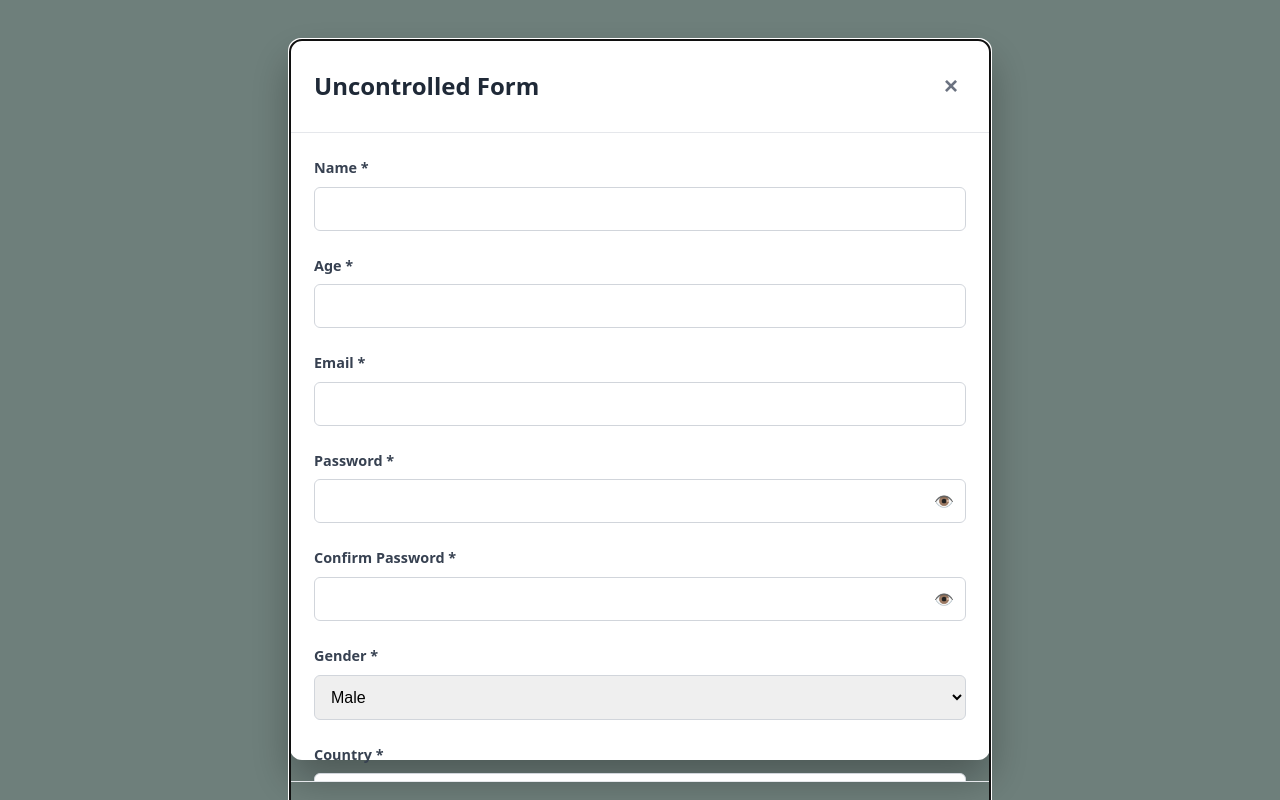
Test: UncontrolledForm Component › Field Validation › should validate password confirmation matching
The image size is (1280, 800).
Type "StrongP@ss123" into the password field labelled "Password *". click: (640, 501)
box: [314,479,966,523]
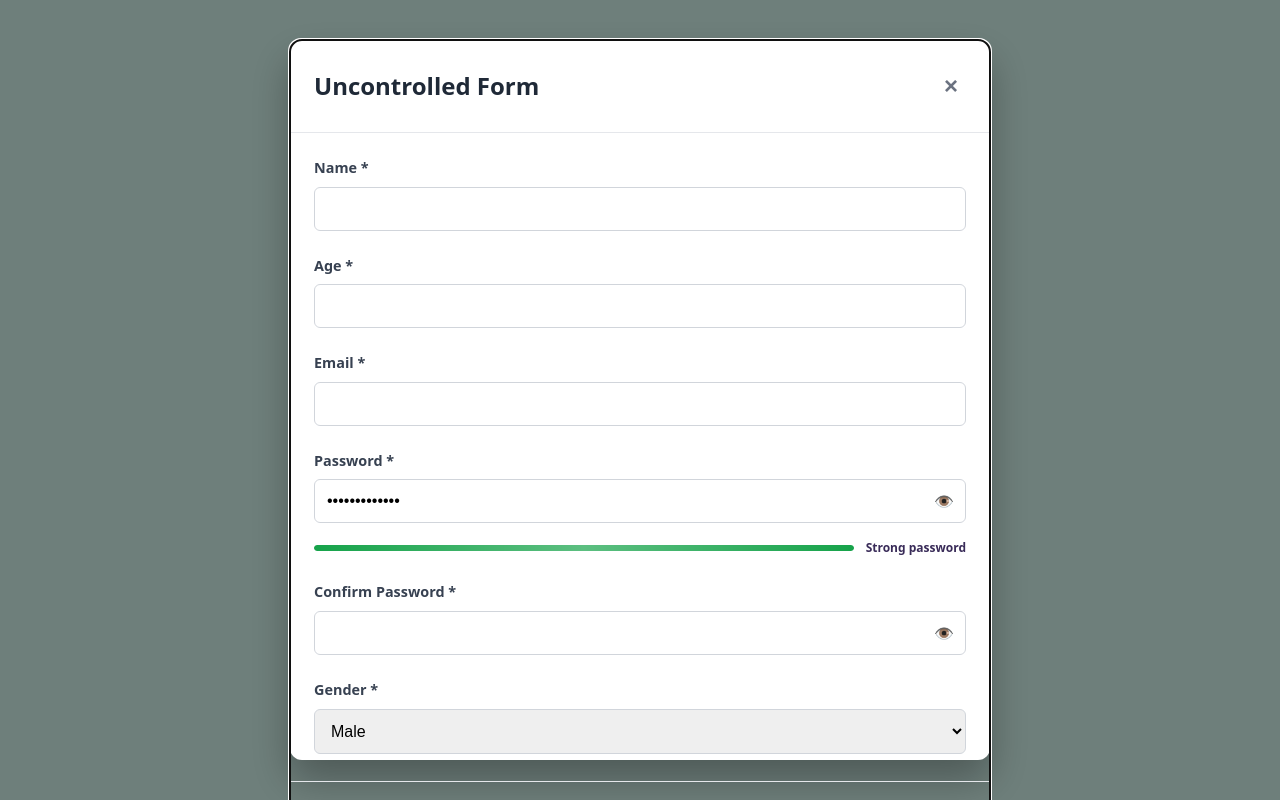
Type "DifferentP@ss123" into the password field labelled "Confirm Password *". click: (640, 633)
box: [314,611,966,655]
(page scrolled)
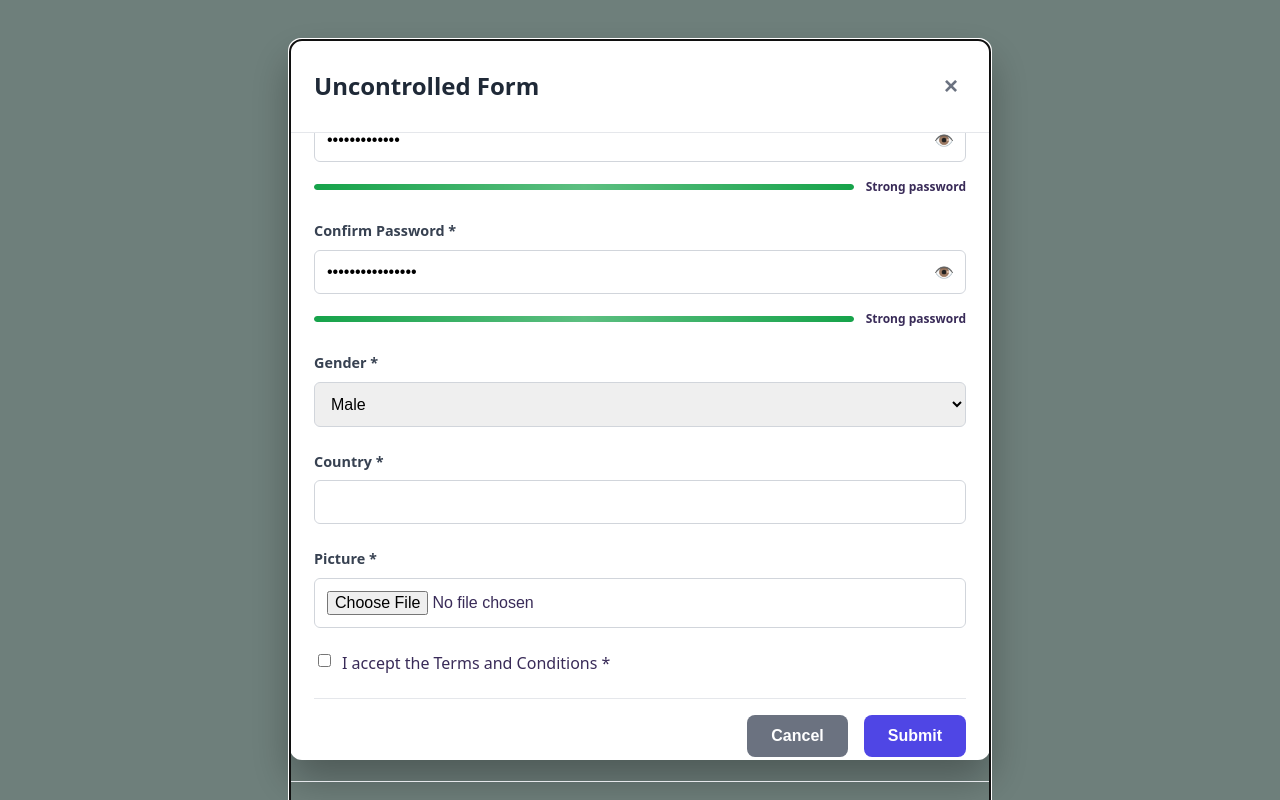
Click the button "Submit". click: (915, 736)
box: [864,715,966,757]
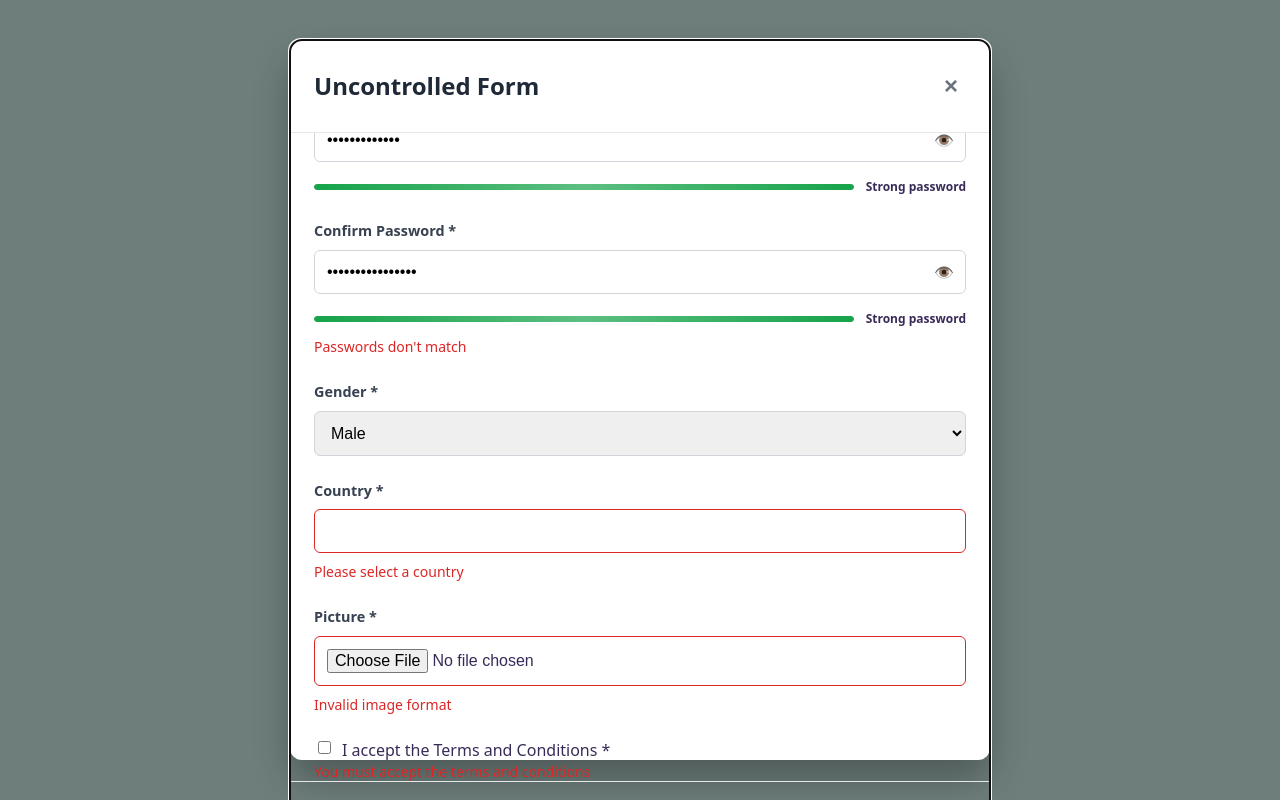
Expected: the text "Passwords don't match" is shown, [314,337,466,356]
Type "StrongP@ss123" into the password field labelled "Confirm Password *". click: (640, 272)
box: [314,250,966,294]
(page scrolled)
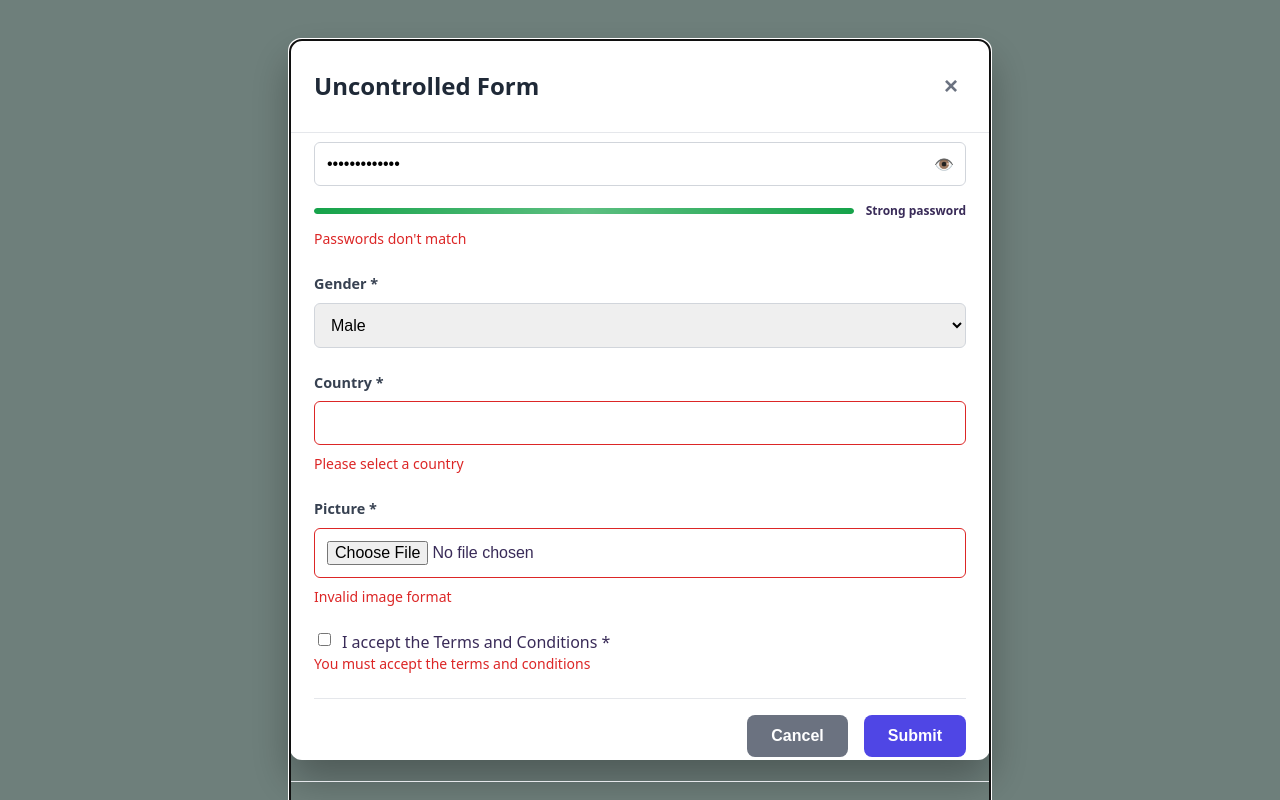
Click the button "Submit". click: (915, 736)
box: [864,715,966,757]
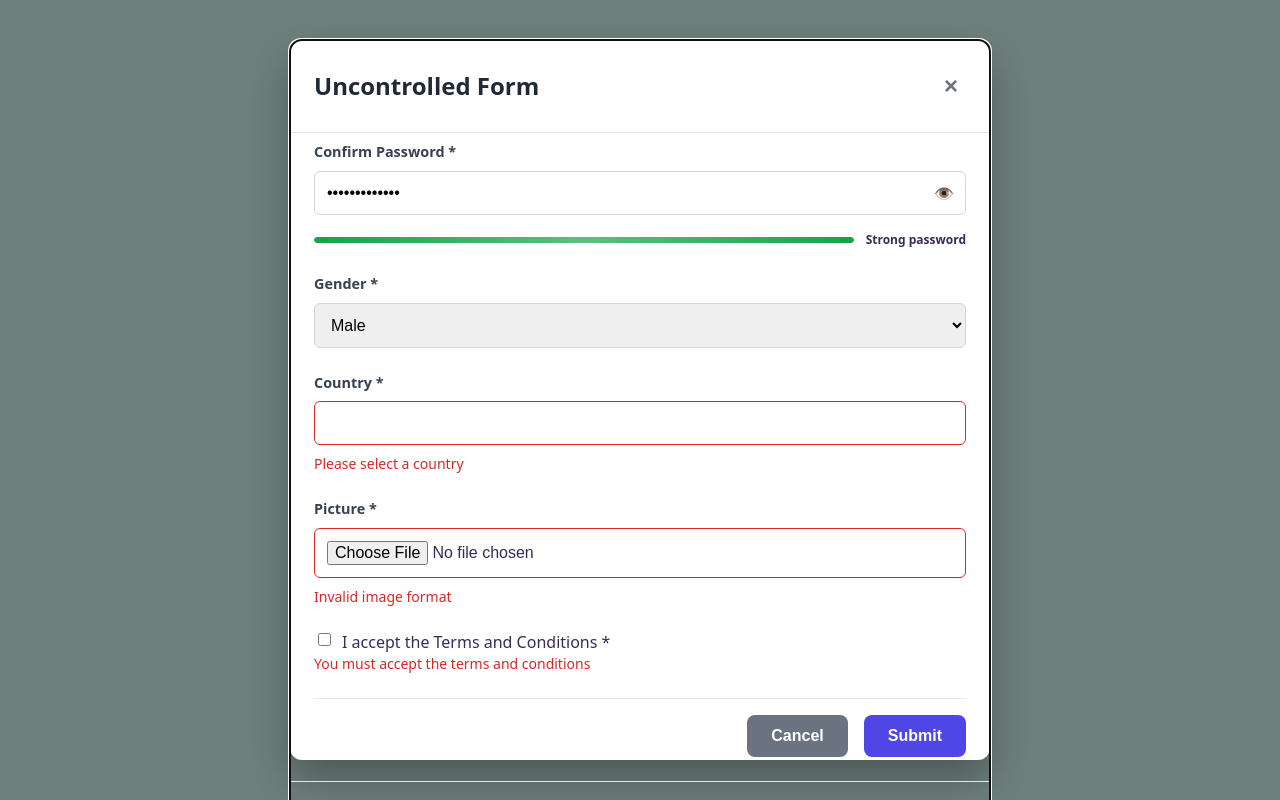
Expected: the text "Passwords don't match" is gone
